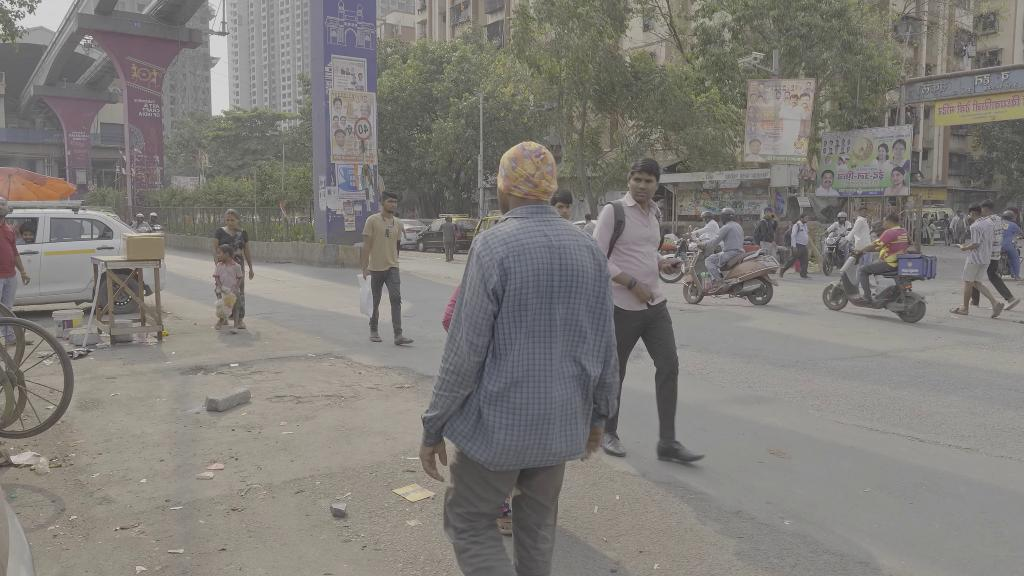dustbin: (51, 307, 86, 339)
garbage: (4, 442, 57, 478), (387, 478, 443, 510), (355, 272, 374, 318), (194, 461, 225, 482), (67, 346, 92, 360)
